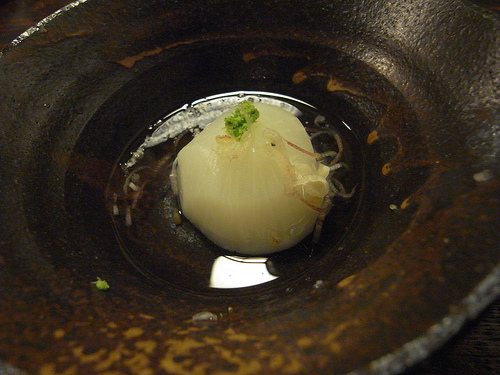turnip: (171, 103, 329, 258)
